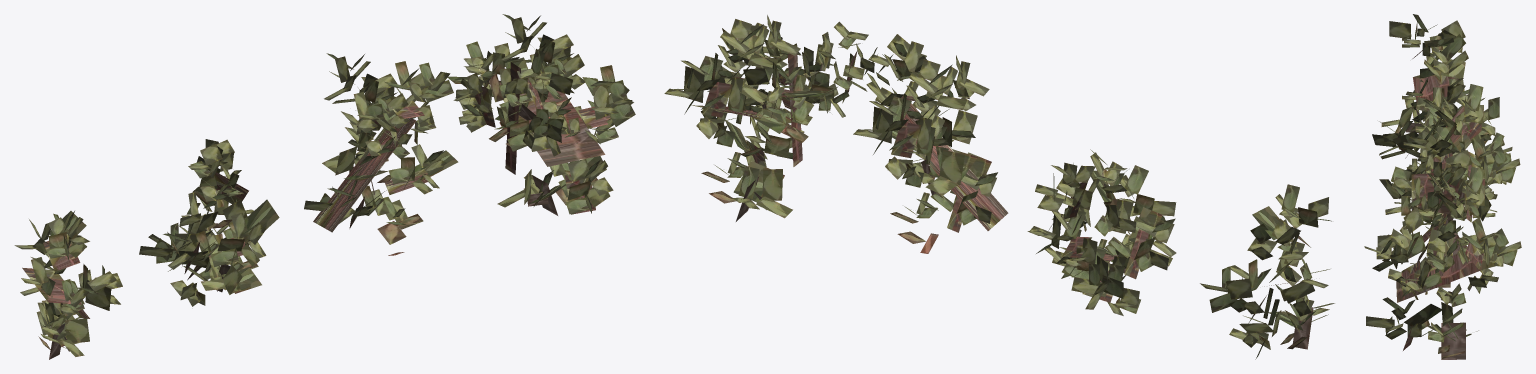
File: shrub_04.glb
3 renders of one model, left to right at view 1: azimuth 30°, elevation 25°; view 2: azimuth 150°, elevation 25°; view 3: azimuth 270°, elevation 25°, orthographic. The views are drawn at different scales.
Parts seen in each view (by area): view 1: shrub_04; view 2: shrub_04; view 3: shrub_04.
Part boxes in pixels (box(x1,y1,x2,y2)): shrub_04: box(14, 14, 635, 359); shrub_04: box(664, 15, 1334, 359); shrub_04: box(1364, 14, 1521, 359).
Bounding box in the file's own units: 0.5827 × 0.201 × 0.1459.
1 material, 1 textured.
